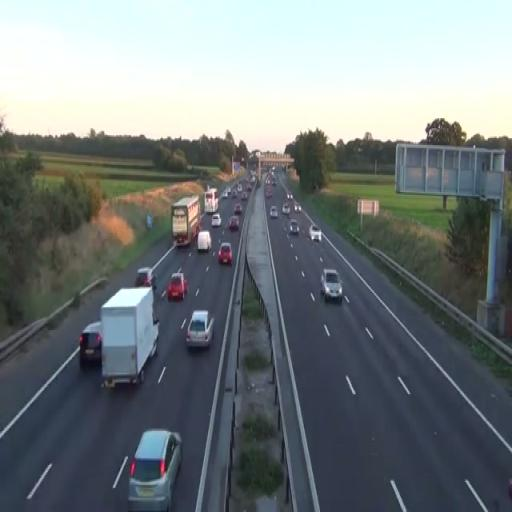Car: (128, 428, 182, 511), (78, 320, 103, 368), (186, 310, 215, 350), (320, 269, 342, 303), (168, 272, 188, 301), (134, 267, 157, 291), (218, 243, 232, 266), (198, 230, 211, 254), (308, 226, 322, 242), (227, 216, 239, 231), (212, 212, 221, 226), (290, 220, 299, 234), (270, 206, 278, 220)
Truck: (100, 285, 160, 389), (171, 196, 202, 246)
